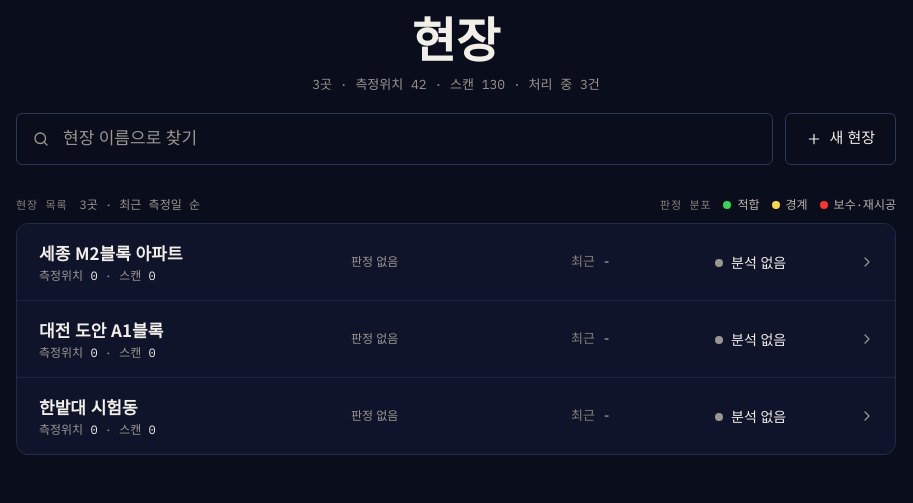
Scenario: SiteFinder 검색 결과 0건 (아트보드 빈 상태) › 안내 · 검색어 · 주 버튼 "새 현장"을 그리고, 현장 줄 링크는 없다
Type "  없는현장 " into the field labelled "현장 이름으로 찾기" at (394, 139), box [16,113,773,165]
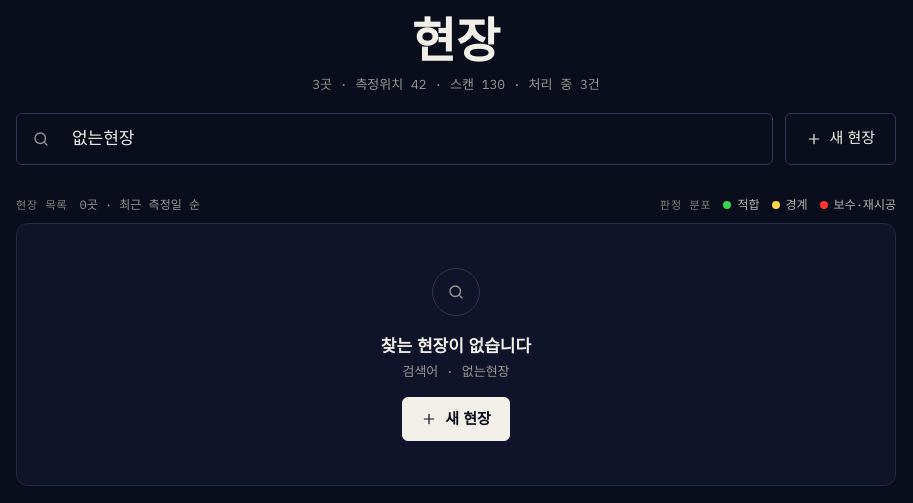
Now the text "찾는 현장이 없습니다" is shown, box [381,332,531,358]
Now the text "검색어 · 없는현장" is shown, box [402,363,510,380]
Now the text "0곳 · 최근 측정일 순" is shown, box [80,197,200,213]
